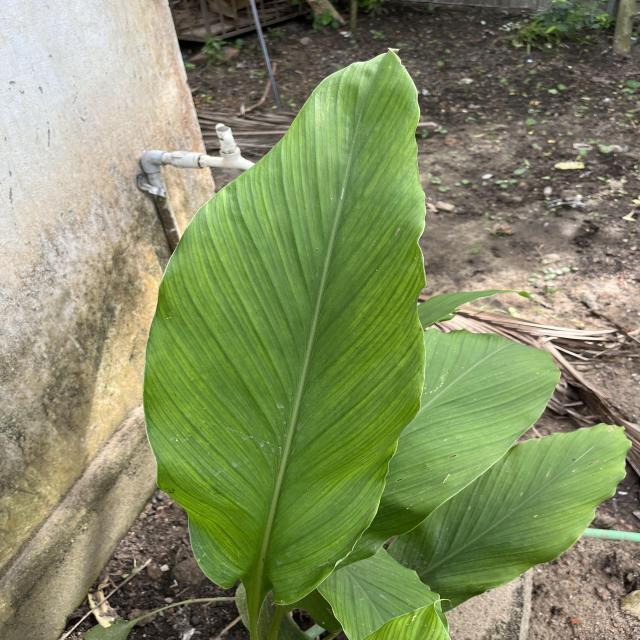Curcuma longa: (138, 42, 432, 612)
